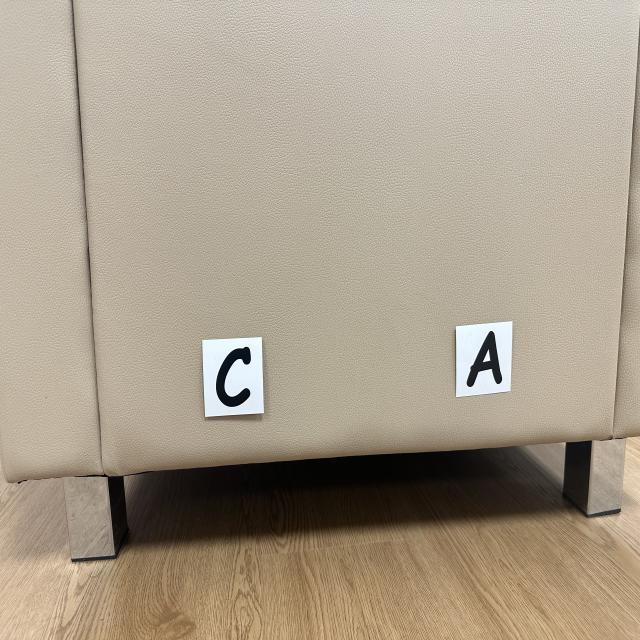A: (466, 332, 502, 387)
C: (216, 347, 251, 407)
